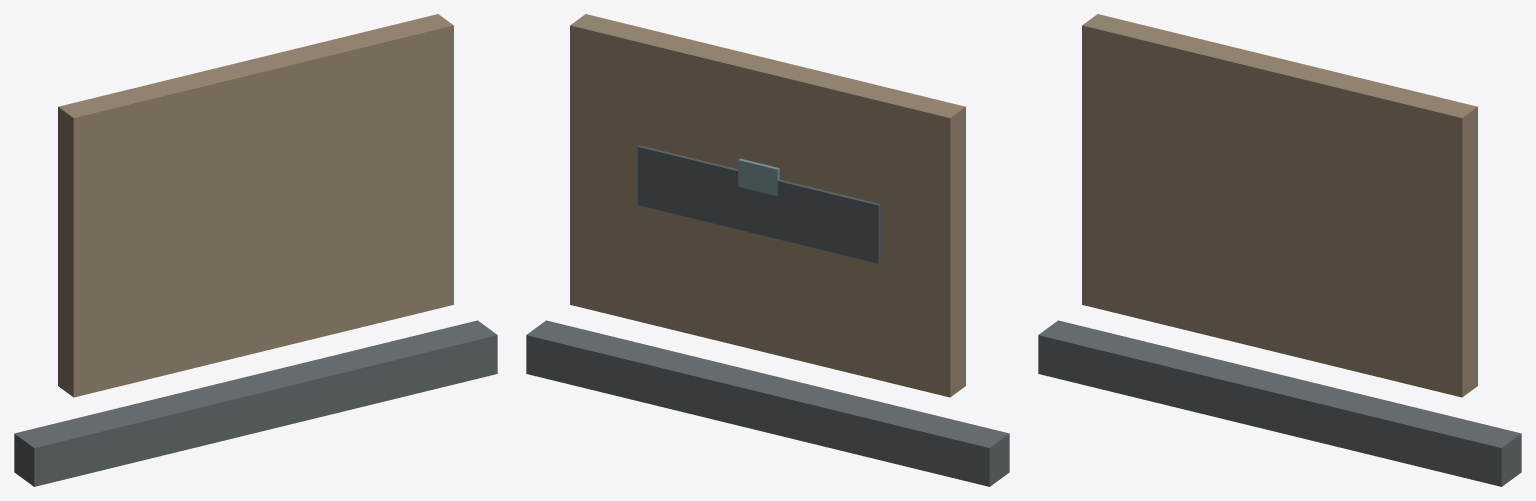
File: iz3_military_gate_02.glb
3 views of the same model, side by side, from view 1: azimuth 30°, elevation 25°; view 2: azimuth 150°, elevation 25°; view 3: azimuth 330°, elevation 25° (orthographic).
Parts seen in each view (by area): view 1: cabinet, base; view 2: cabinet, base, panel, display; view 3: cabinet, base.
Boxes of the visible parts, left/top/right/bottom form: cabinet: left=58, top=14, right=453, bottom=397; base: left=14, top=320, right=497, bottom=486; cabinet: left=570, top=14, right=965, bottom=397; base: left=526, top=320, right=1009, bottom=486; panel: left=637, top=145, right=880, bottom=263; display: left=738, top=158, right=779, bottom=196; cabinet: left=1082, top=14, right=1477, bottom=397; base: left=1038, top=320, right=1521, bottom=486.
Size of the model in its own units: 4 by 2.94 by 0.3.
